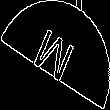M_SW: (30, 22, 80, 88)
